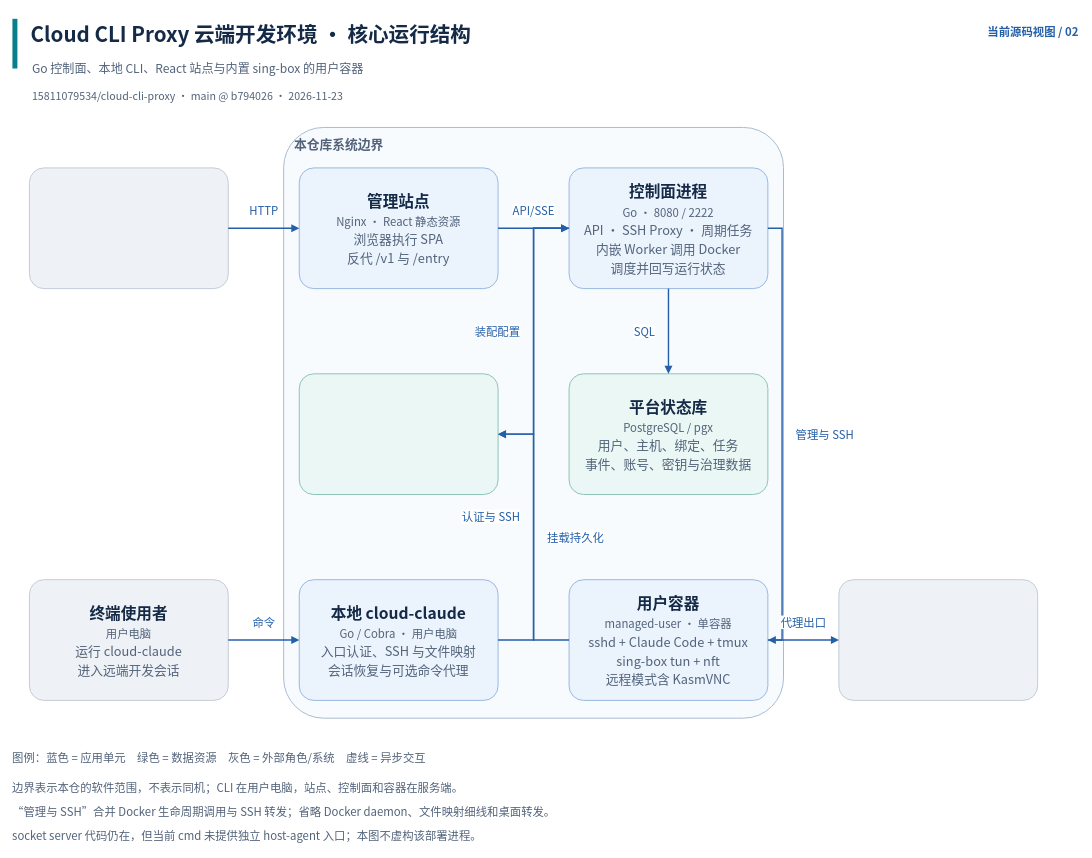
Some shapes in this 1092 by 858 pixel diagram are drawn without their labels. The centre of each missing label's shape, as x and y in pixels:
"宿主配置与卷 目录 / Docker volume 网络配置注入源与用户目录 可选 Claude 账号状态卷 与关系数据库分别存放" goes at point 398,434.
"已绑定代理服务 外部出口与互联网 图示默认公网出口 代理与私网直连例外见正文" goes at point 938,640.
"浏览器使用者 管理员 / 普通用户 访问管理站点 查看主机、任务和事件" goes at point 128,228.
